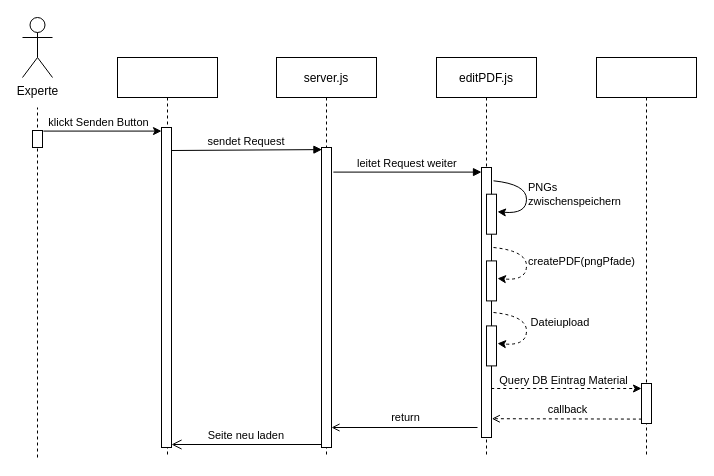
Some shapes in this 714 by 476 pixel diagram are drawn without their labels. The shapes that lost their labels are listed below. From the top down, each one's box as (x1, y1, x2, y2) in pixels, then its label:
(116, 56, 218, 458): pdferstellung.ejs
(596, 56, 696, 458): dbConfig.js
